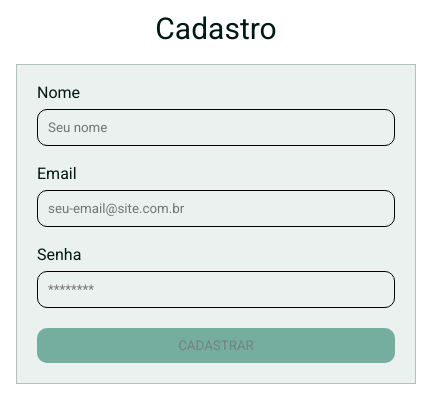
Test: Testing Login - Page › Expected to register button is enabled with correct fields
In the field with test id "common_register__input-name": (216, 128) [37,109,395,146], type "isAValidName"
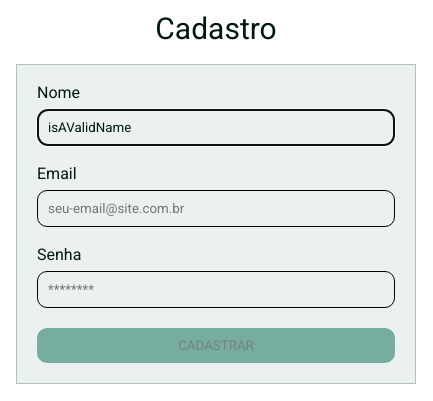
In the field with test id "common_register__input-email": (216, 208) [37,190,395,227], type "valid@email.com"
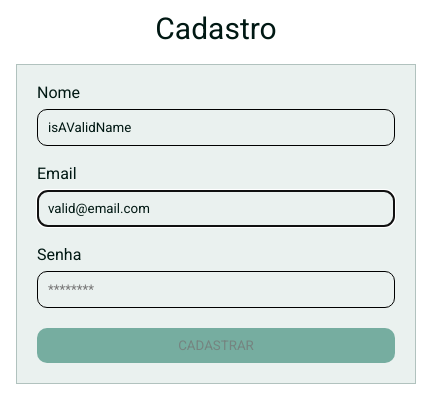
In the password field with test id "common_register__input-password": (216, 290) [37,271,395,308], type "validPassword"
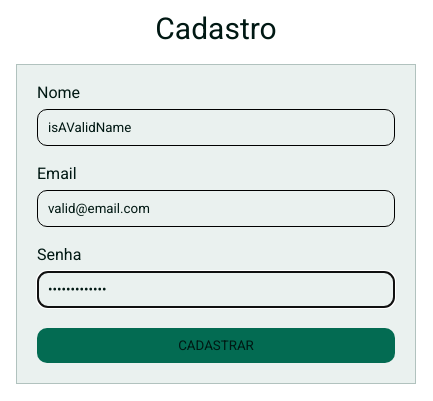
expect the button with test id "common_register__button-register" is enabled: met, box [37,328,395,363]
